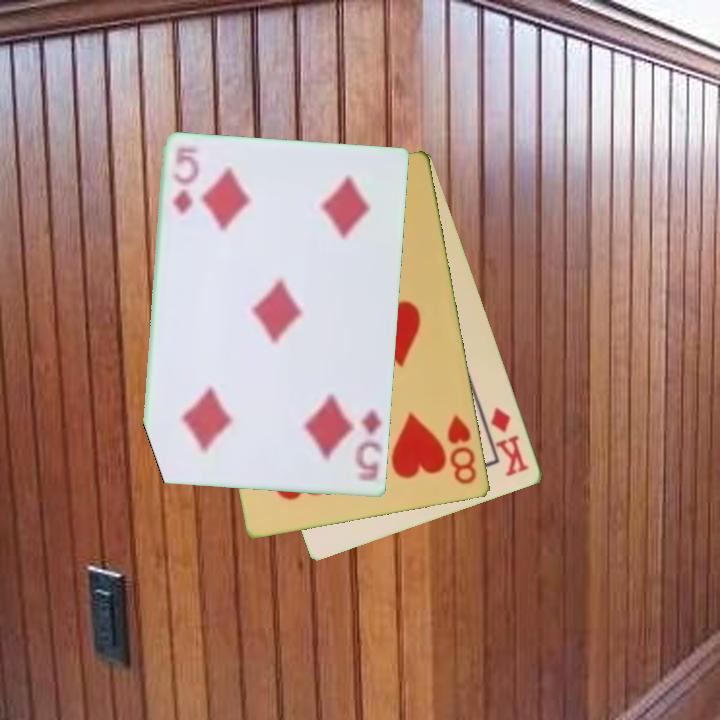5d: (352, 405, 385, 486), (168, 157, 198, 218)
8h: (444, 411, 480, 488)
Kd: (487, 404, 533, 480)
